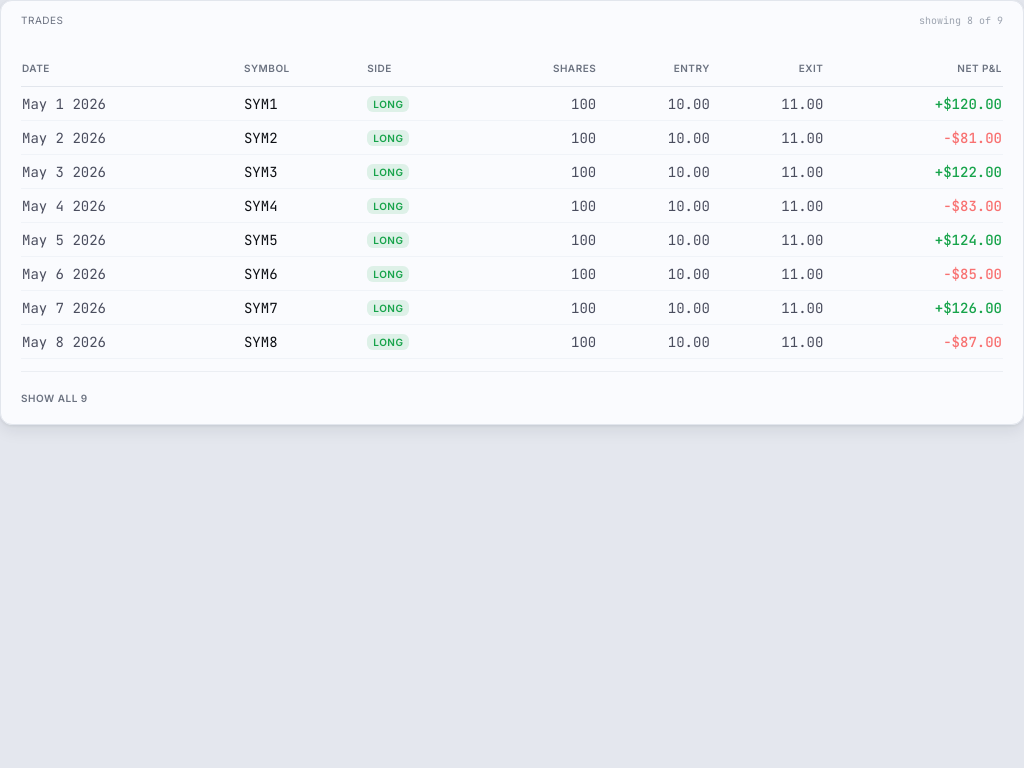
Test: PM2 the position reads the FULL set, not the rendered slice › and the ninth trade is reachable even though its row is not rendered
Click the button "May 8 2026 SYM8 long 100 10.00 11.00 -$87.00" at (64,342), box [21,324,1003,358]
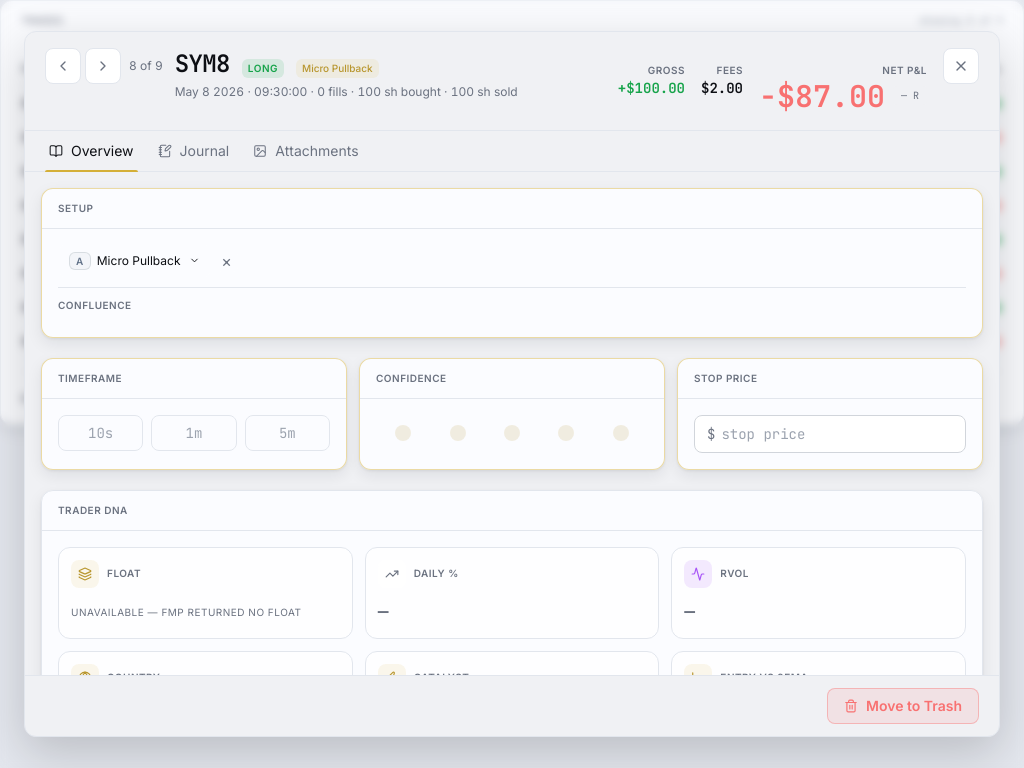
expect the text "8 of 9" is shown: met, box [129,58,163,74]
Click the button named "Next trade" at (103,66), box [85,48,121,84]
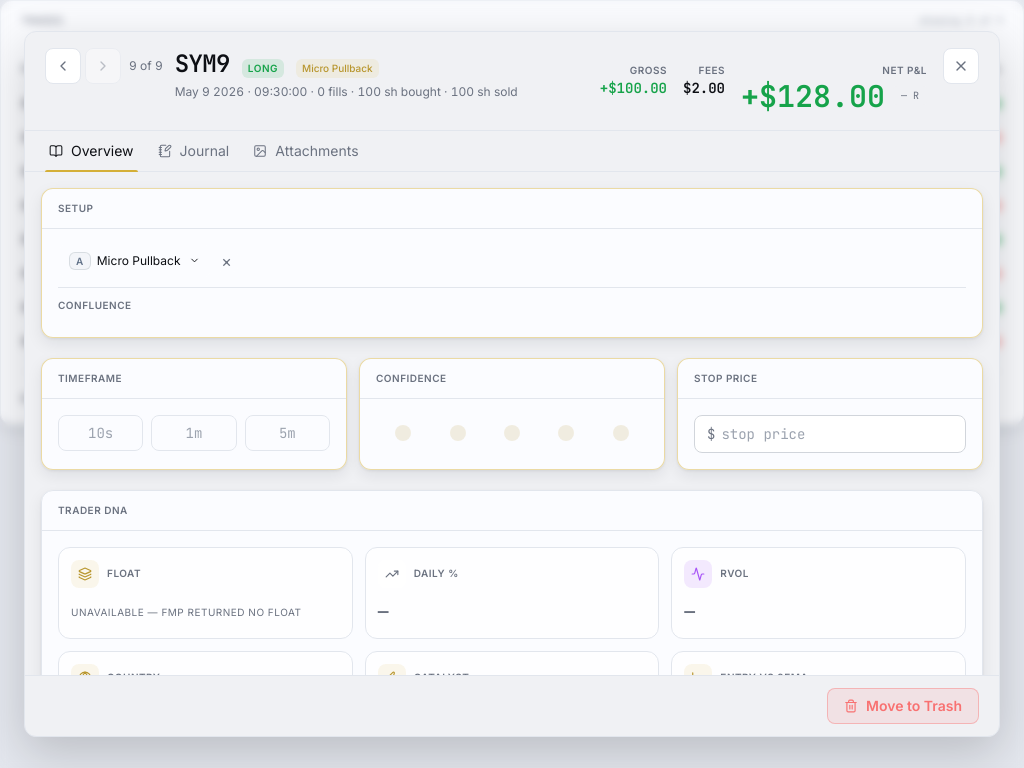
expect the heading with id "trade-detail-title" reads "SYM9": met, box [175,48,230,79]
expect the text "9 of 9" is shown: met, box [129,58,163,74]
